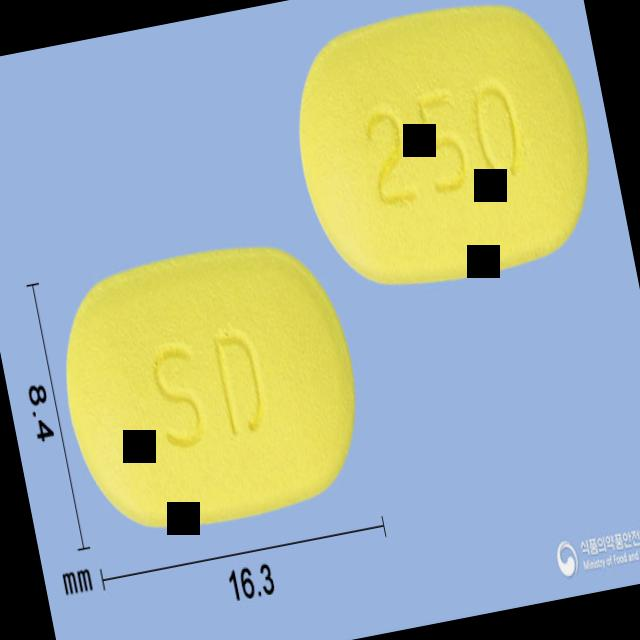Clabio - 500mg: (41, 220, 383, 556), (277, 0, 615, 312)
